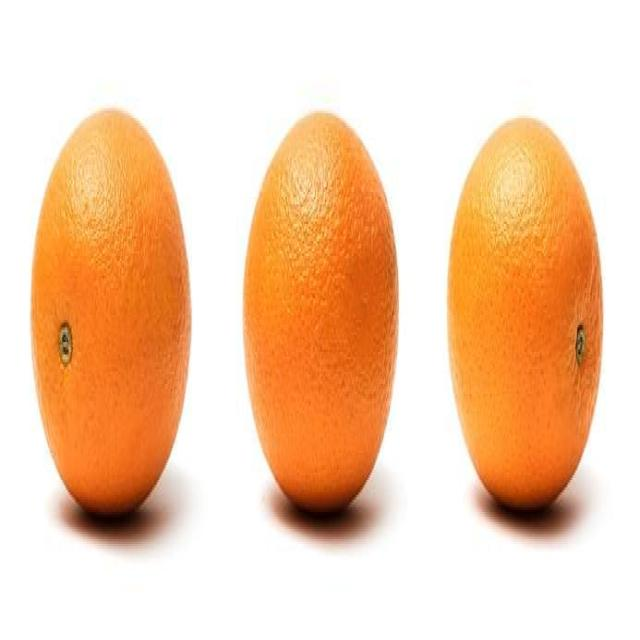orange: (31, 105, 192, 519), (241, 109, 400, 519), (446, 113, 605, 515)
